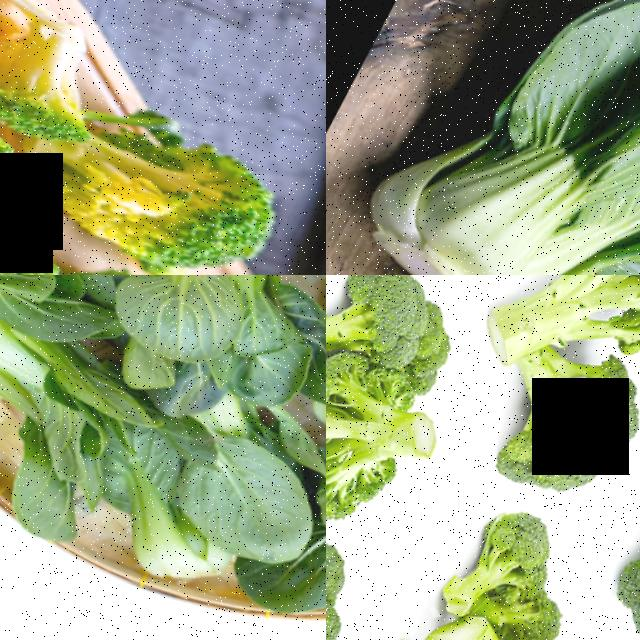bok choy: (349, 0, 640, 275), (94, 275, 326, 426), (0, 317, 157, 465)
broccoli: (21, 81, 289, 275), (465, 336, 640, 537), (326, 345, 477, 547), (439, 480, 605, 629), (491, 275, 640, 390), (0, 0, 102, 142), (326, 275, 437, 372), (0, 91, 65, 241), (402, 302, 479, 402), (326, 537, 372, 610)
